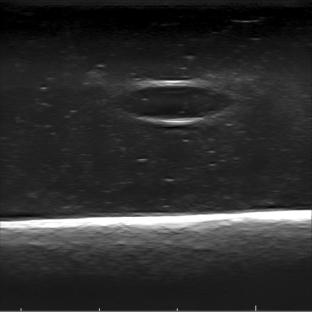vessel: (122, 80, 233, 125)
